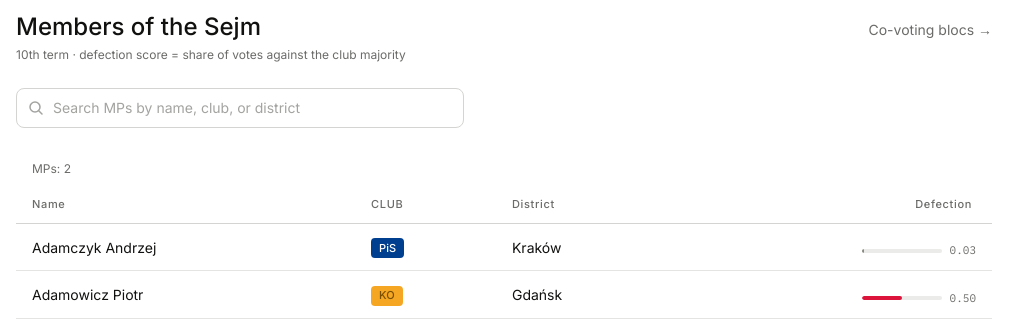
MPsPage (§3.1) › filters the table via the search box
Expected: the text "Adamczyk Andrzej" is shown, [16, 224, 355, 271]
Type "Adamowicz" into the dropdown at (240, 108), box [16, 88, 464, 128]
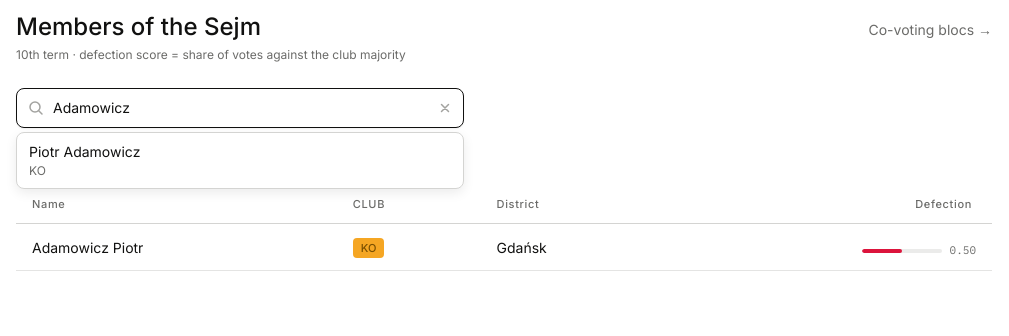
Expected: the text "Adamowicz Piotr" is shown, [16, 224, 337, 271]
Now the text "Adamczyk Andrzej" is gone
